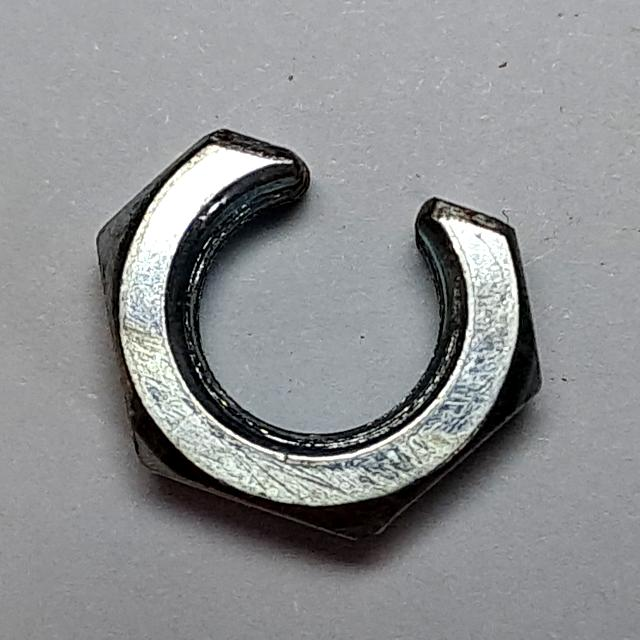Fracture: (87, 119, 566, 556)
